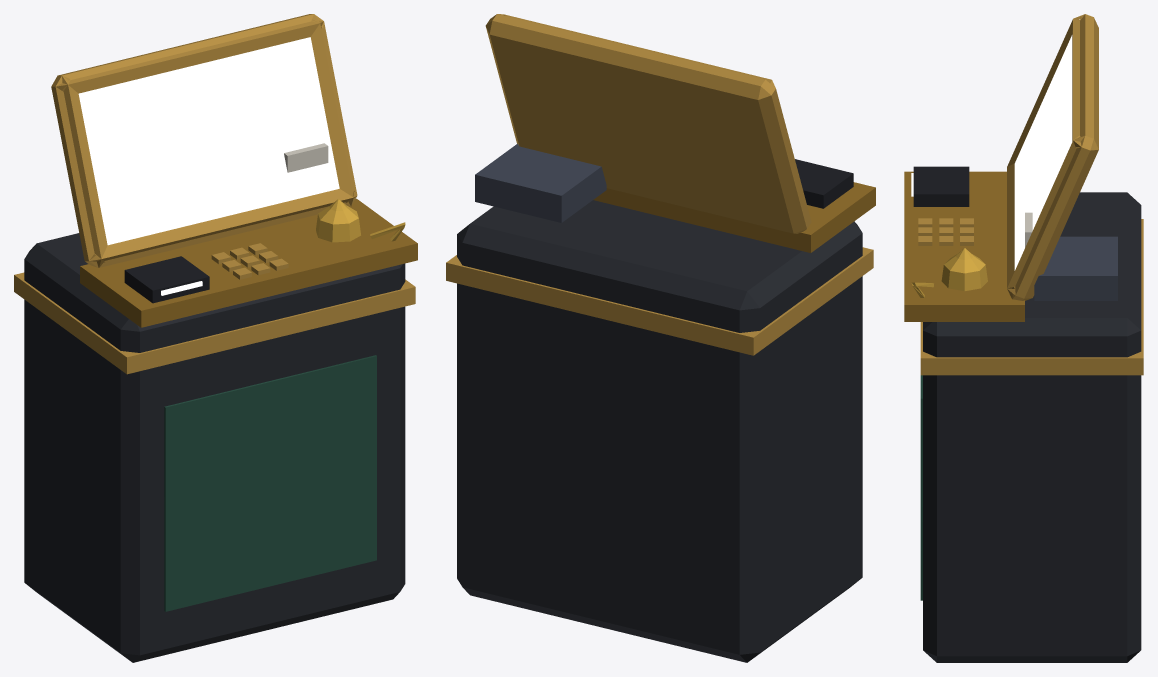
File: kit-newyork-terminal.glb
3 views of the same model, side by side, from view 1: azimuth 30°, elevation 25°; view 2: azimuth 150°, elevation 25°; view 3: azimuth 270°, elevation 25° (orthographic). The views are drawn at different scales.
Parts seen in each view (by area): view 1: kit-newyork-terminal; view 2: kit-newyork-terminal; view 3: kit-newyork-terminal.
Boxes of the visible parts, <box> form: kit-newyork-terminal: <box>14,14,417,662</box>; kit-newyork-terminal: <box>446,14,875,662</box>; kit-newyork-terminal: <box>904,14,1143,662</box>.
Size of the model in its own units: 0.71 by 1.25 by 0.515.
